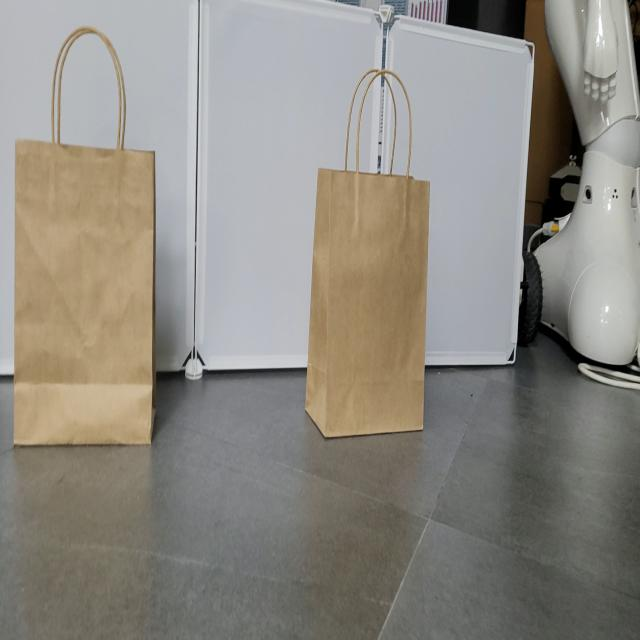paper bag: (16, 28, 161, 450), (305, 66, 427, 441)
